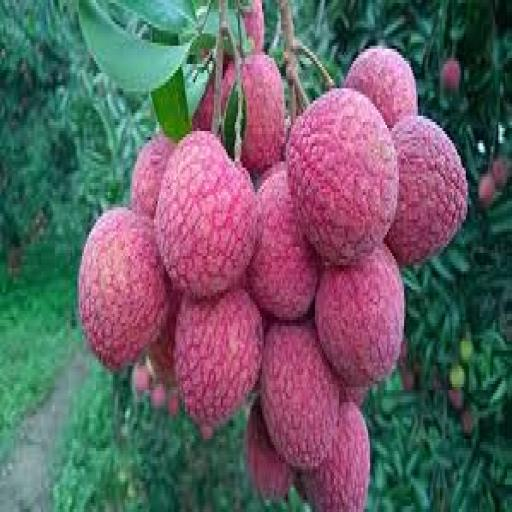lychee: (288, 89, 398, 265), (156, 132, 258, 295), (79, 208, 167, 368), (316, 247, 404, 387), (386, 116, 467, 265), (175, 290, 263, 426), (261, 324, 339, 469), (249, 168, 318, 319), (302, 403, 369, 511), (345, 46, 417, 127), (242, 52, 285, 173), (245, 403, 292, 496), (131, 135, 174, 219), (148, 284, 181, 387), (244, 0, 265, 51), (340, 378, 368, 405), (441, 58, 460, 91), (132, 363, 150, 393), (478, 174, 494, 207), (492, 159, 510, 188), (447, 388, 464, 411), (151, 384, 166, 408), (168, 391, 179, 417)
